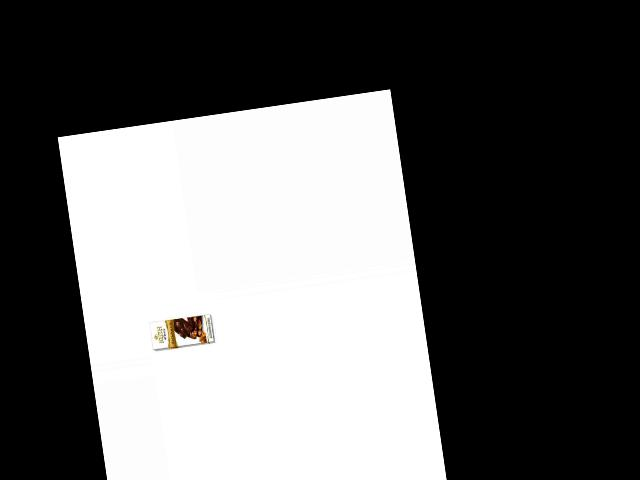chocolate: (144, 307, 215, 357)
